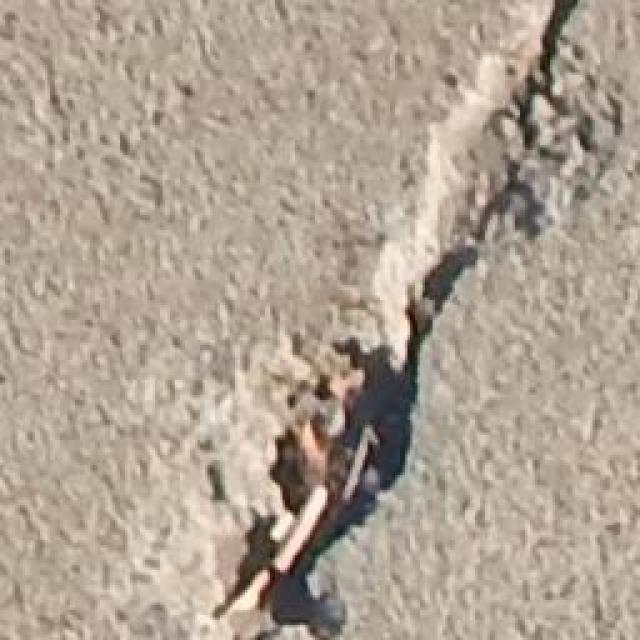concrete-crack: (196, 2, 628, 640)
